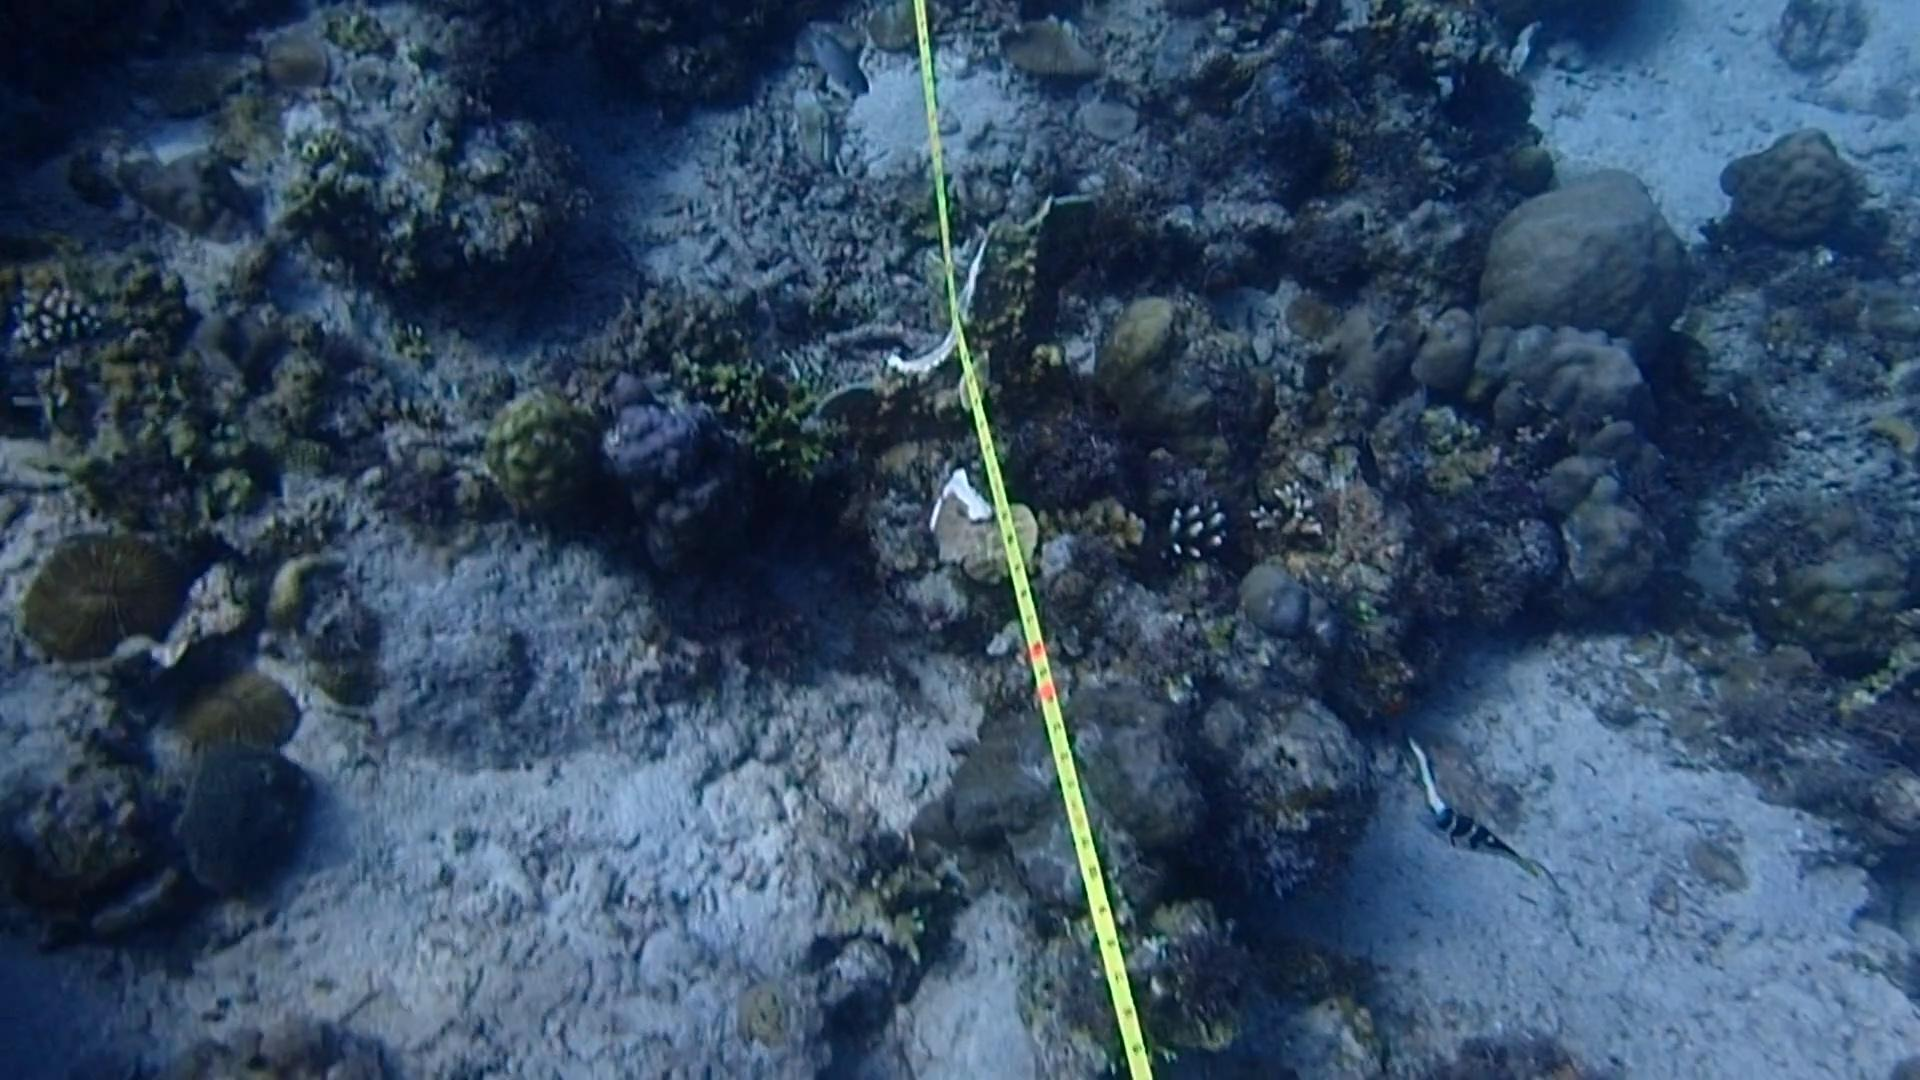Striped Fish: (1415, 793, 1553, 893)
